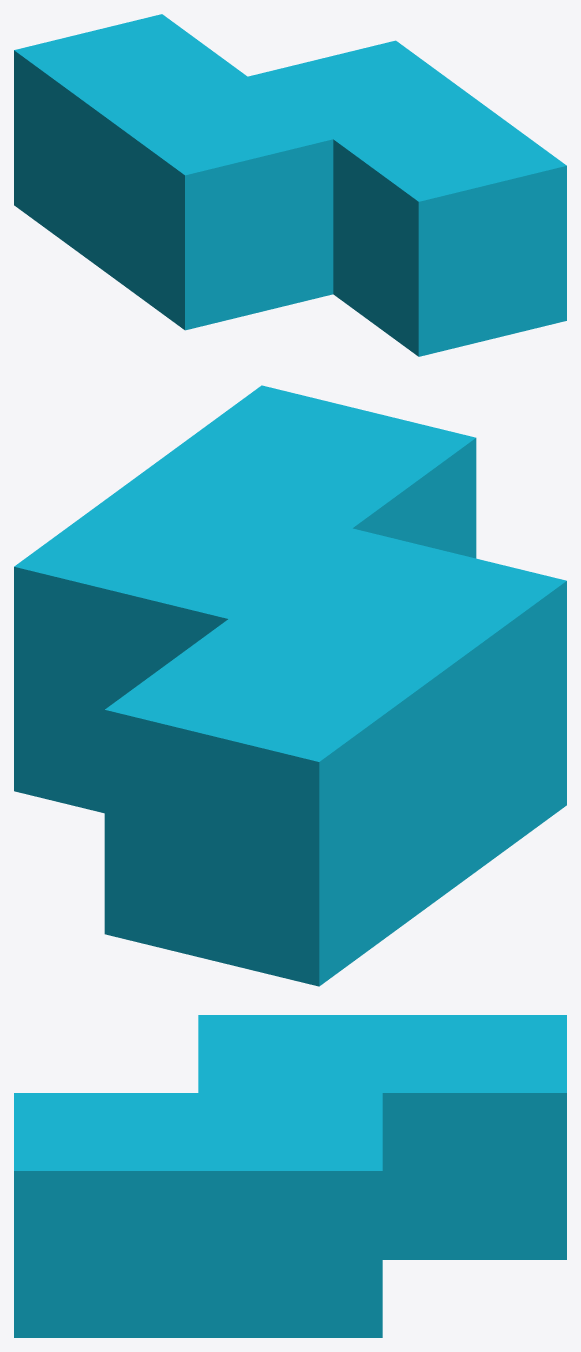
File: tetris s.fbx
3 views of the same model, one above another, from view 1: azimuth 30°, elevation 25°; view 2: azimuth 150°, elevation 25°; view 3: azimuth 270°, elevation 25° (orthographic). The views are drawn at different scales.
Visible parts, largest first — view 1: Cube.002; view 2: Cube.002; view 3: Cube.002.
Part boxes in pixels (left/top/right/bottom): Cube.002: left=14, top=14, right=566, bottom=356; Cube.002: left=14, top=385, right=566, bottom=986; Cube.002: left=14, top=1015, right=566, bottom=1337.
Bounding box in the file's own units: 400 × 200 × 600.
